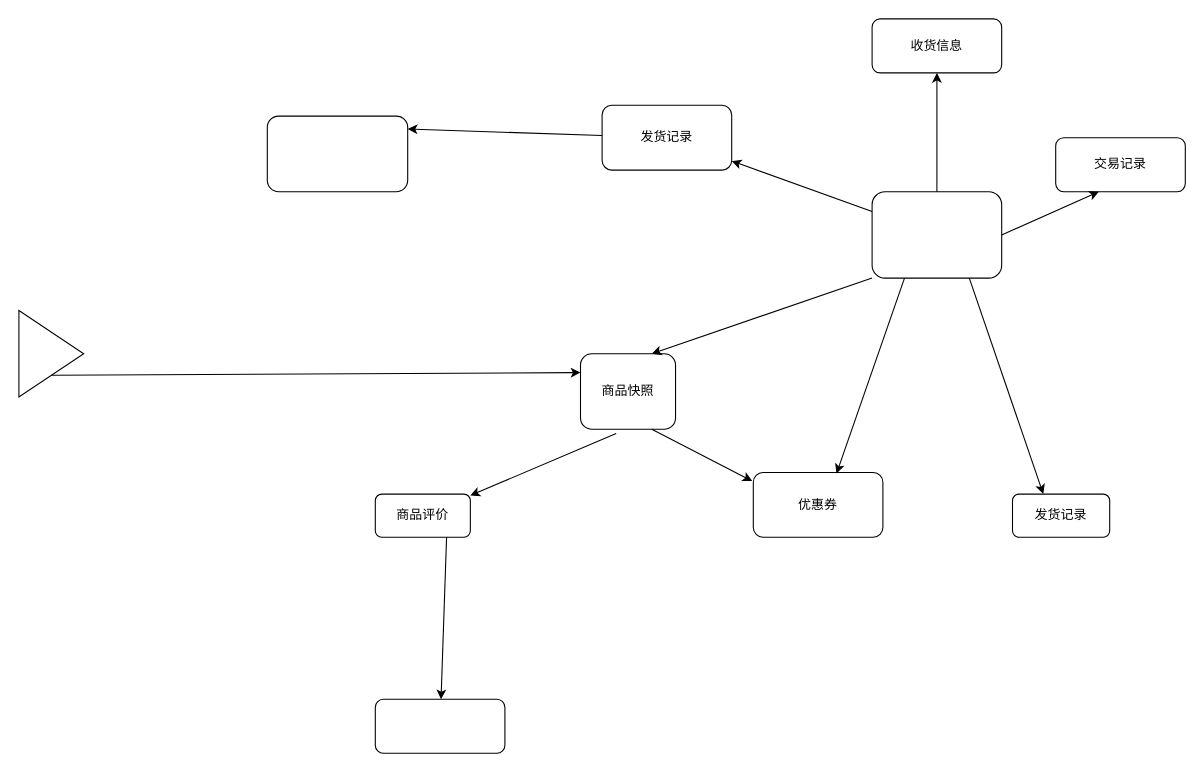
The diagram is 1204 pixels wide and 772 high, and some of its shapes have lost their labels. The centre of each missing label's shape, as x and y in pixels:
商品: the point at 51,353
物流信息: the point at 337,153
订单: the point at 936,234
评价操作 如点赞: the point at 439,725
